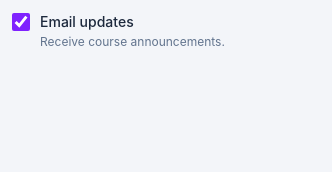
Test case: Checkbox › toggles an uncontrolled checkbox and exposes its description
Click the checkbox labelled "Email updates".
click(21, 22)  # box x1=12 y1=13 x2=30 y2=31
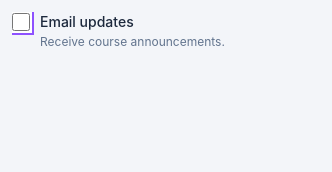
Expected: the checkbox labelled "Email updates" is not checked, x1=12 y1=13 x2=30 y2=31
